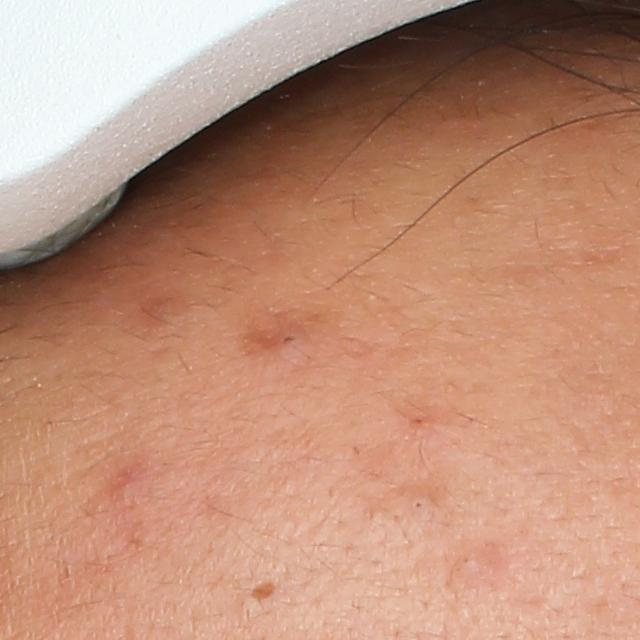atrophic_scar: (248, 580, 276, 602)
comedo: (456, 550, 484, 573), (412, 495, 428, 511)
